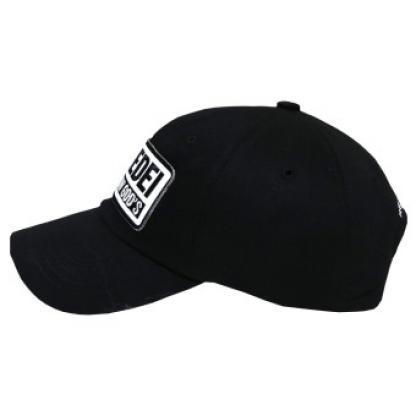cap: (6, 95, 409, 324)
